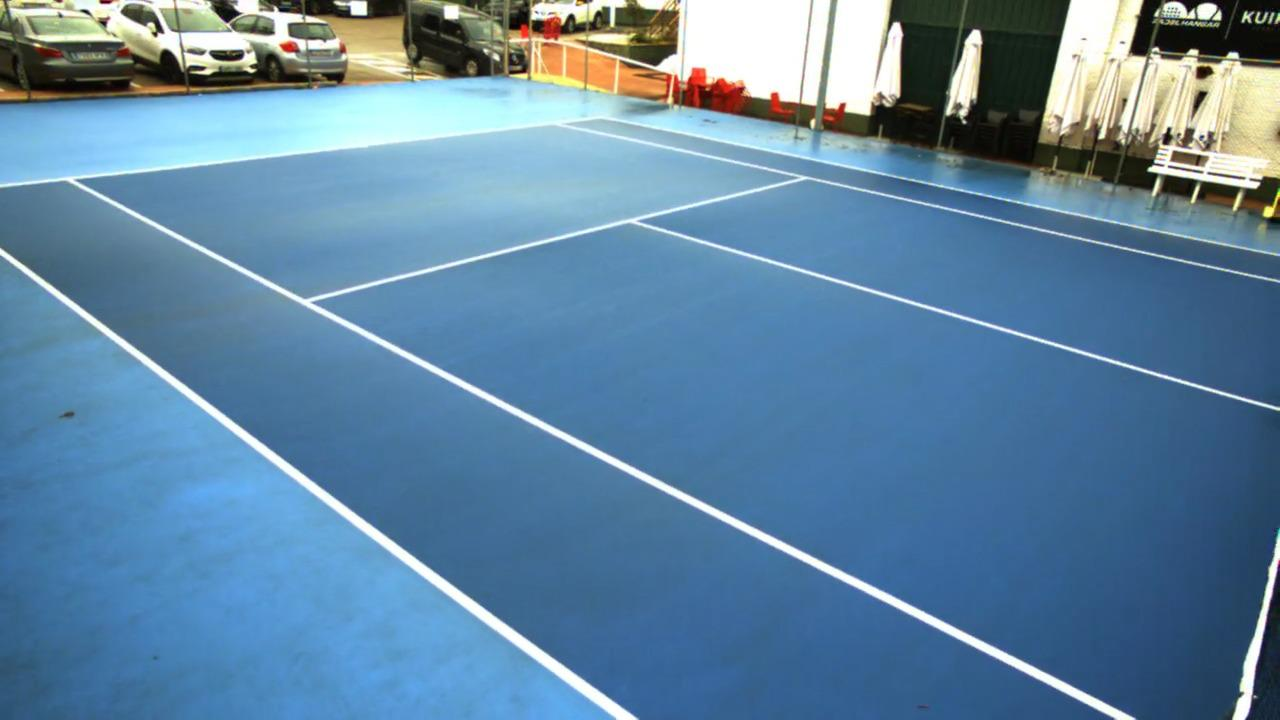cancha_tenis: (67, 120, 1280, 717)
point_f1: (55, 166, 91, 194)
point_f2: (547, 113, 577, 136)
point_fc1: (358, 139, 375, 154)
point_i1: (292, 288, 333, 316)
point_i2: (783, 167, 816, 190)
point_ic1: (616, 207, 654, 234)
